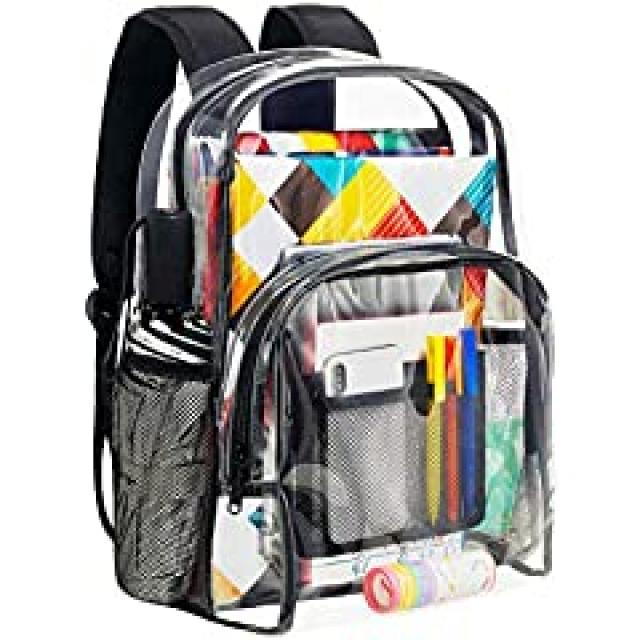Backpacks: (88, 45, 567, 640)
